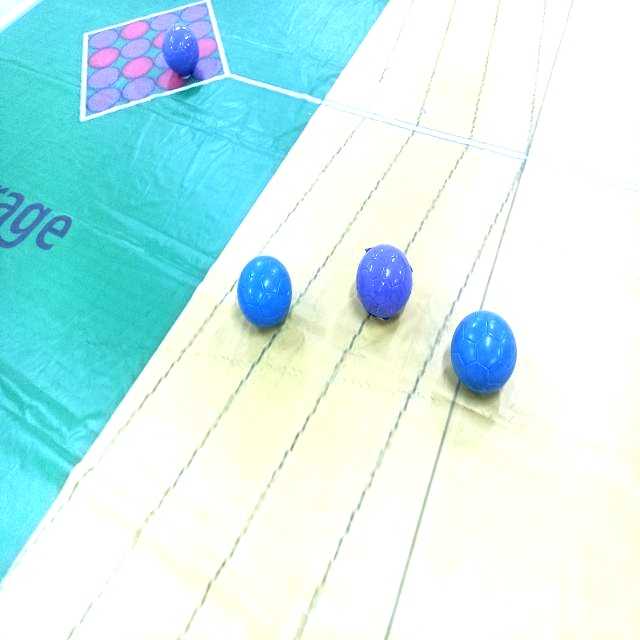blue_ball: (447, 308, 518, 400), (236, 251, 295, 338)
purple_ball: (354, 240, 414, 328), (158, 22, 205, 82)
